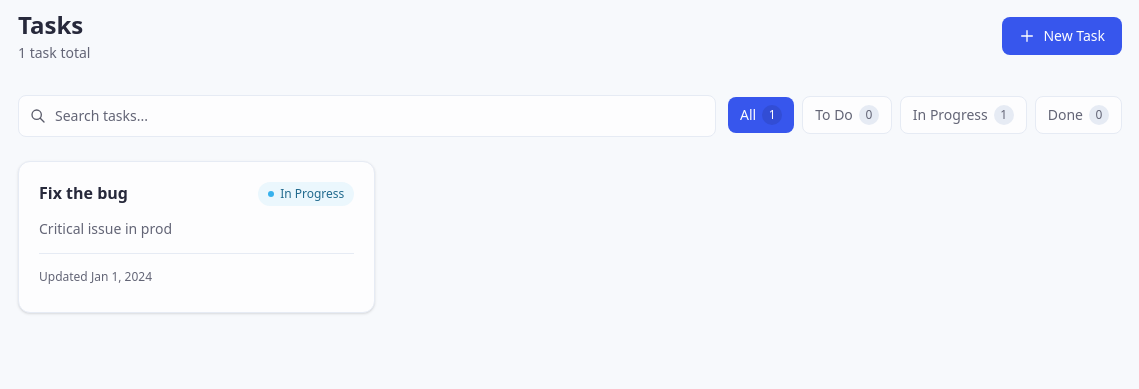
Test: Dashboard › shows empty state message when searching with no match
Type "nonexistent" into the search field with placeholder "Search tasks...". click: point(367, 116)
box: [18,95,716,137]
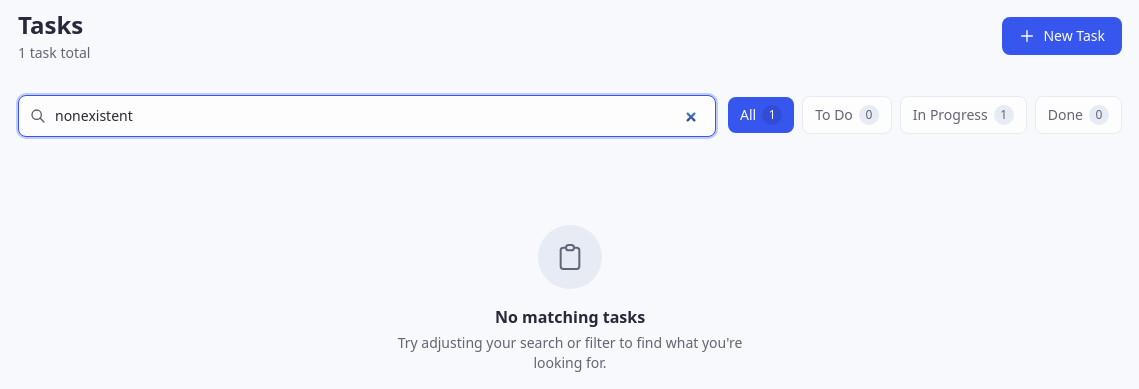
Check: the heading "No matching tasks" is shown, box [495,305,645,329]
